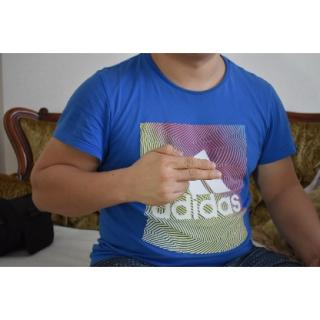AYN: (117, 143, 226, 206)
